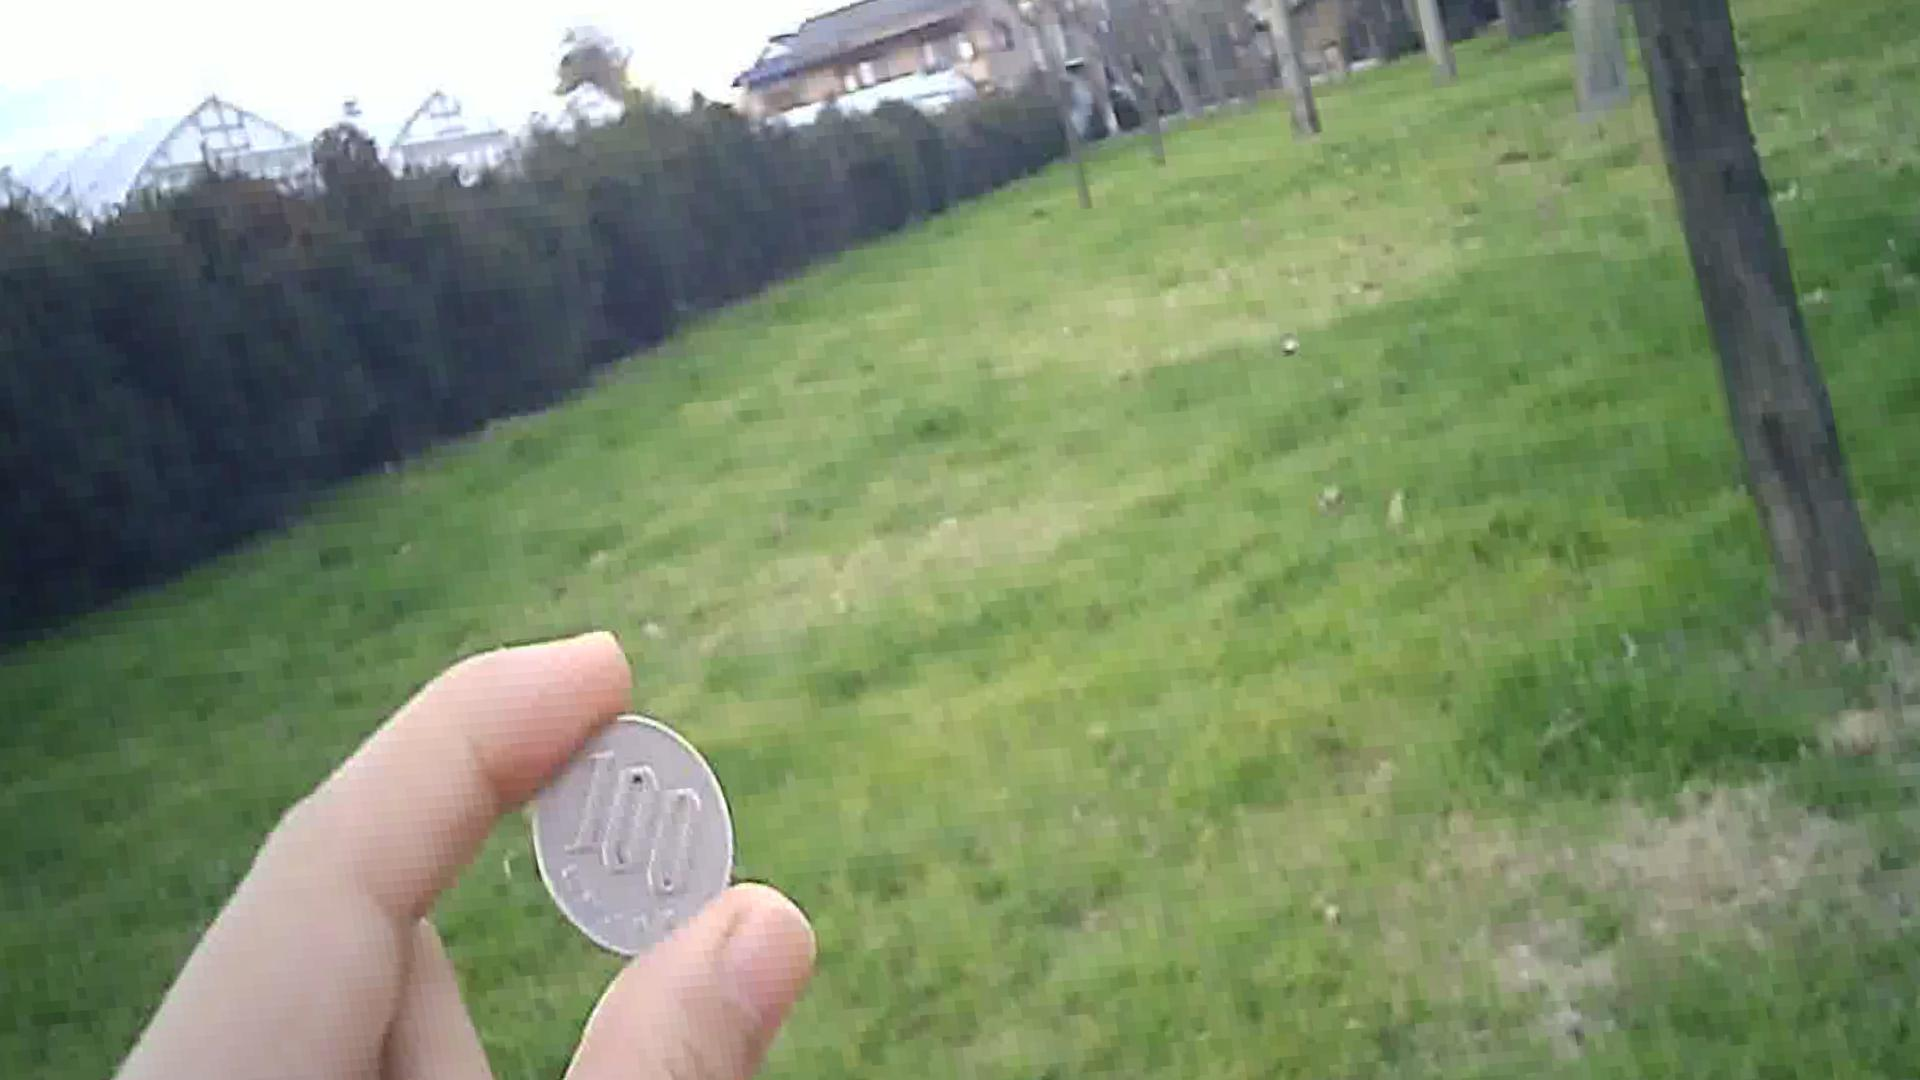100 Yen: (501, 694, 738, 957)
